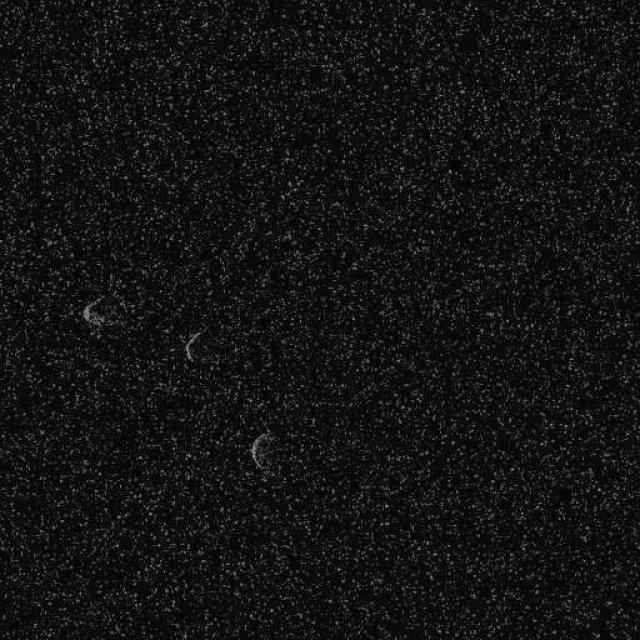D2: (80, 292, 128, 332), (248, 430, 278, 474), (183, 328, 205, 362)
